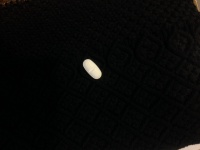Centik Buskopan: (82, 57, 102, 80)
